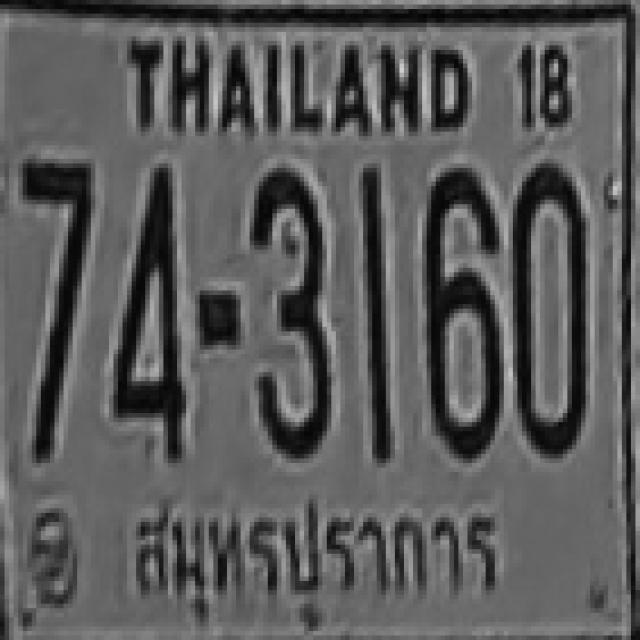4: (109, 227, 181, 458)
7: (18, 159, 91, 313)
SamutPrakan: (122, 490, 512, 605)
